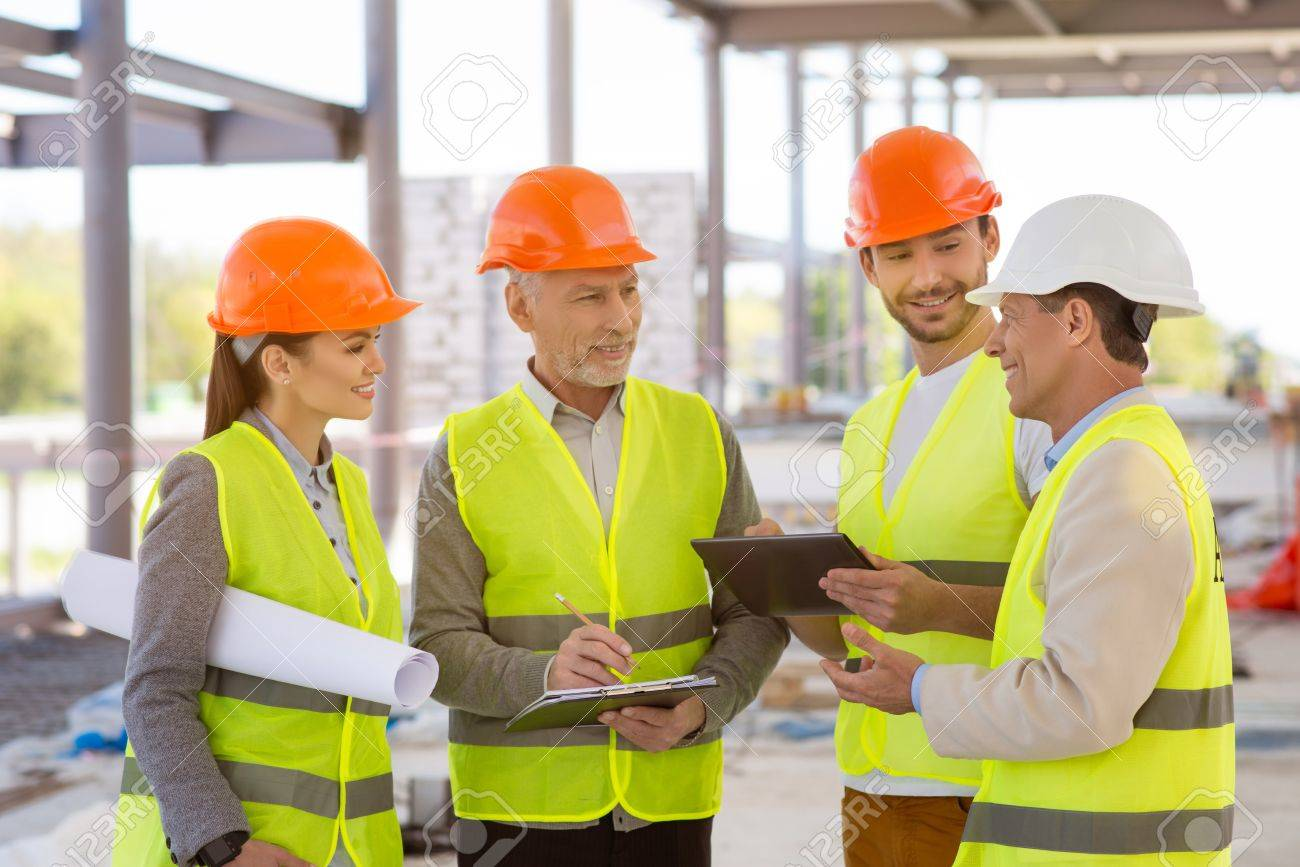Safety Helmet: (978, 175, 1213, 468), (187, 193, 422, 464), (467, 144, 666, 402), (829, 97, 1009, 373)
